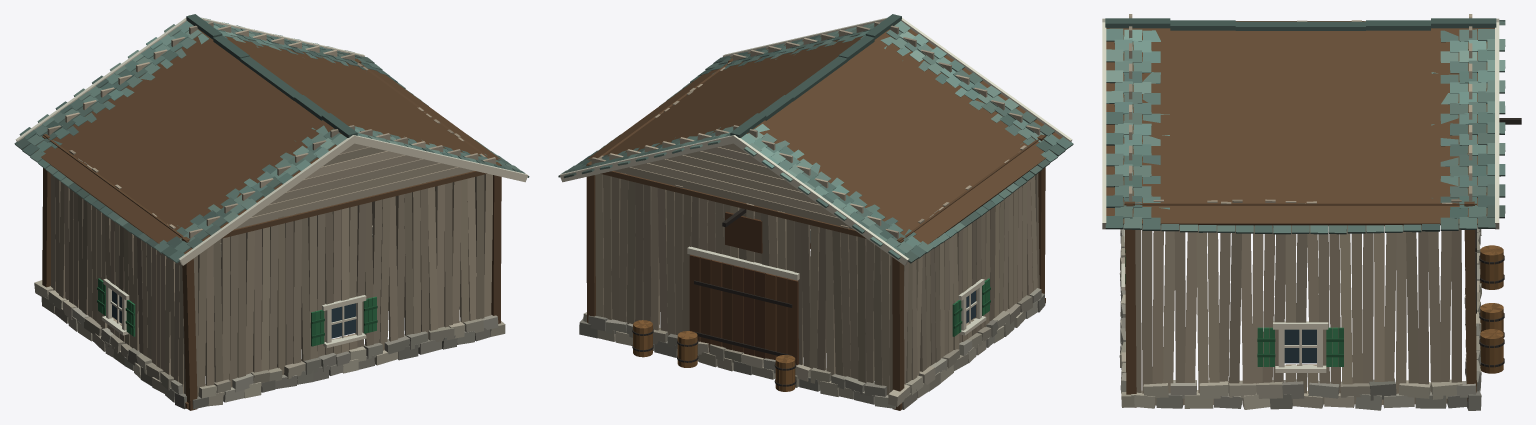
File: galpao_3.glb
3 views of the same model, side by side, from view 1: azimuth 30°, elevation 25°; view 2: azimuth 150°, elevation 25°; view 3: azimuth 270°, elevation 25° (orthographic). The views are drawn at different scales.
Parts seen in each view (by area): view 1: Madeira, Telhado, Pedra, Vidro; view 2: Madeira, Telhado, Pedra, Ferro; view 3: Madeira, Telhado, Pedra, Vidro, Ferro.
Boxes of the visible parts, left/top/right/bottom form: Madeira: left=15, top=15, right=528, bottom=410; Telhado: left=14, top=14, right=529, bottom=263; Pedra: left=34, top=225, right=505, bottom=409; Vidro: left=112, top=290, right=355, bottom=338; Madeira: left=559, top=15, right=1072, bottom=410; Telhado: left=558, top=14, right=1073, bottom=263; Pedra: left=579, top=229, right=1045, bottom=409; Ferro: left=632, top=208, right=796, bottom=386; Madeira: left=1102, top=14, right=1503, bottom=407; Telhado: left=1105, top=18, right=1505, bottom=234; Pedra: left=1119, top=225, right=1481, bottom=410; Vidro: left=1284, top=329, right=1316, bottom=363; Ferro: left=1475, top=118, right=1521, bottom=367.
Size of the model in its own units: 11.56 by 7.68 by 9.87.
